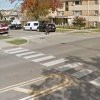crosswalk: (4, 47, 100, 86)
